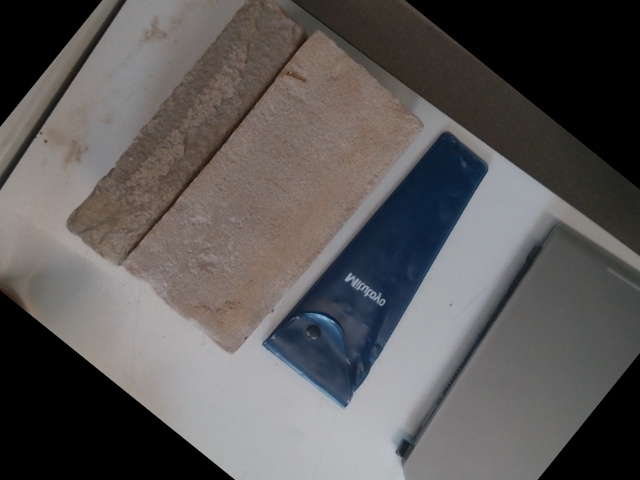brick: (125, 36, 424, 349)
